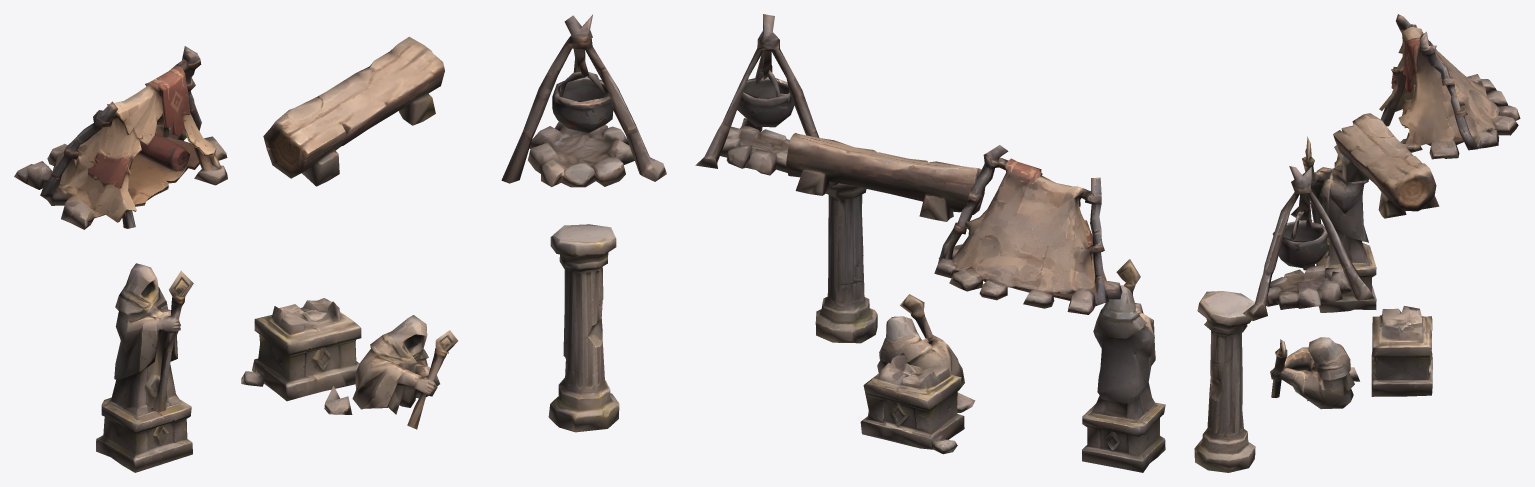
The model's file is room_assetspack1.glb.
The picture shows the model from 3 angles, left to right: view 1: azimuth 30°, elevation 25°; view 2: azimuth 150°, elevation 25°; view 3: azimuth 270°, elevation 25°; orthographic projection. The views are drawn at different scales.
Visible parts, largest first — view 1: tripo_node_808ea8c1-c2b7-4624-b2b3-8738a375f4da; view 2: tripo_node_808ea8c1-c2b7-4624-b2b3-8738a375f4da; view 3: tripo_node_808ea8c1-c2b7-4624-b2b3-8738a375f4da.
Part boxes in pixels (bbox=[...]): tripo_node_808ea8c1-c2b7-4624-b2b3-8738a375f4da: bbox=[14, 14, 666, 472]; tripo_node_808ea8c1-c2b7-4624-b2b3-8738a375f4da: bbox=[695, 14, 1165, 472]; tripo_node_808ea8c1-c2b7-4624-b2b3-8738a375f4da: bbox=[1194, 14, 1520, 472].
Size of the model in its own units: 1 by 0.6715 by 0.6318.
1 material, 1 textured.
